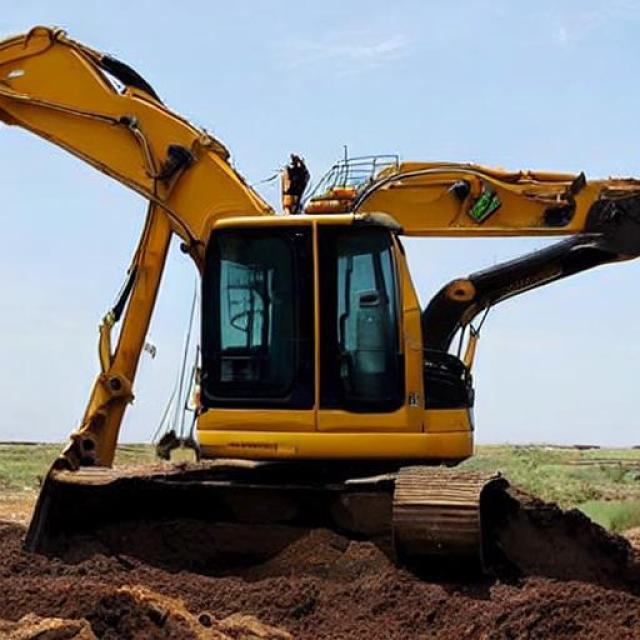excavator: (320, 127, 372, 253)
